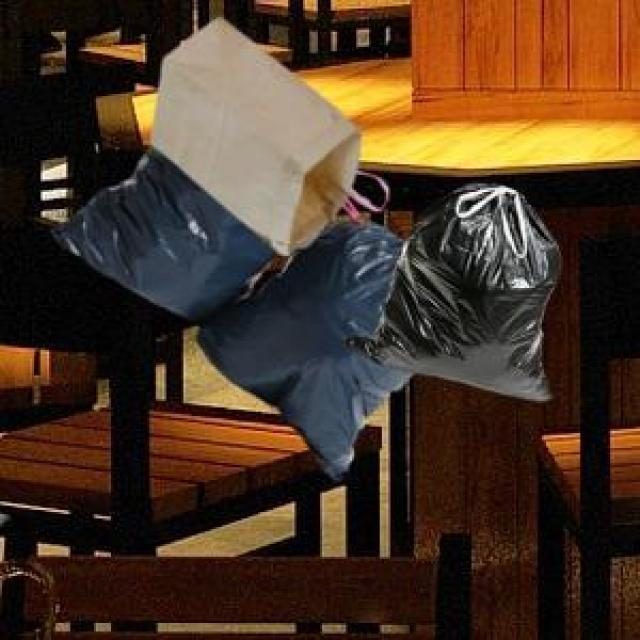miscellaneous trash: (47, 143, 408, 476), (339, 179, 557, 397)
paper: (147, 13, 356, 250)
